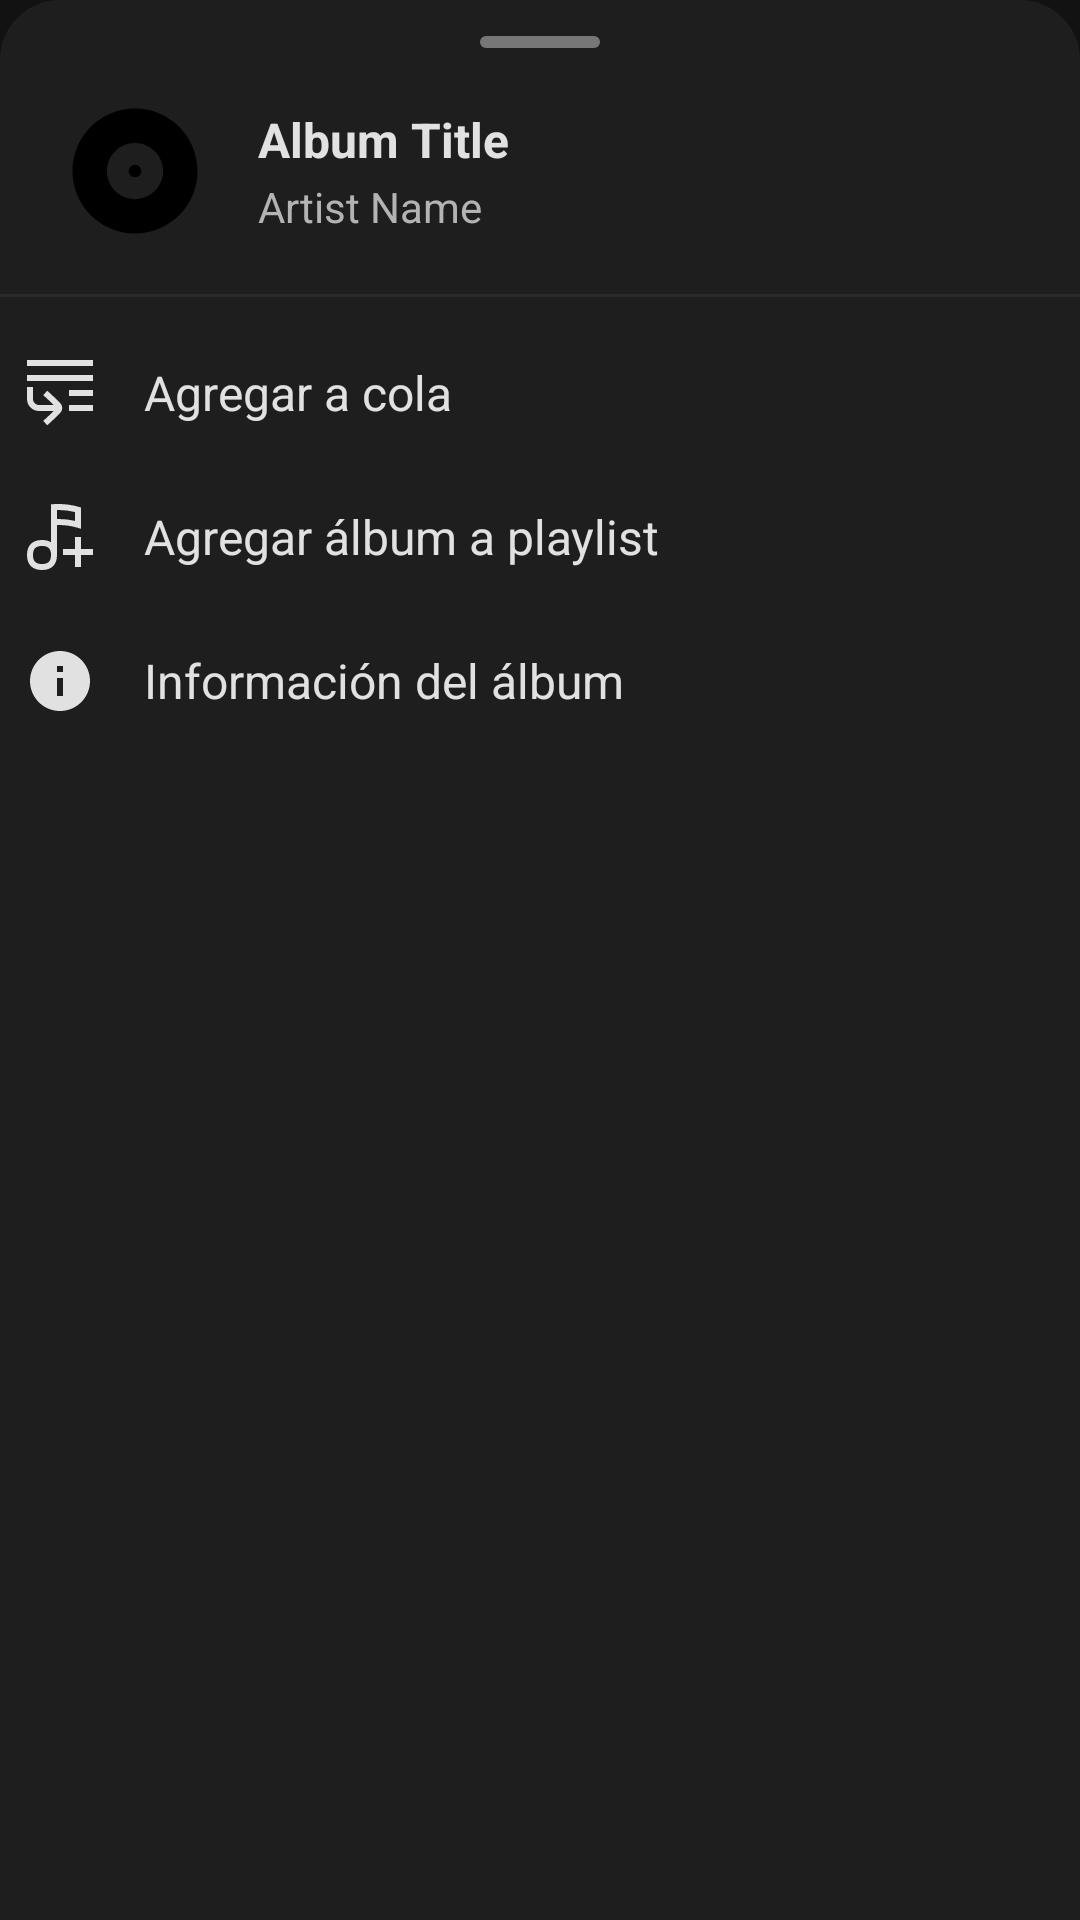

Where icons sit on this 1080*1920 app screen, as (x1, y1, x2, y2):
add queue: (27, 360, 93, 425)
playlist add: (27, 504, 93, 570)
